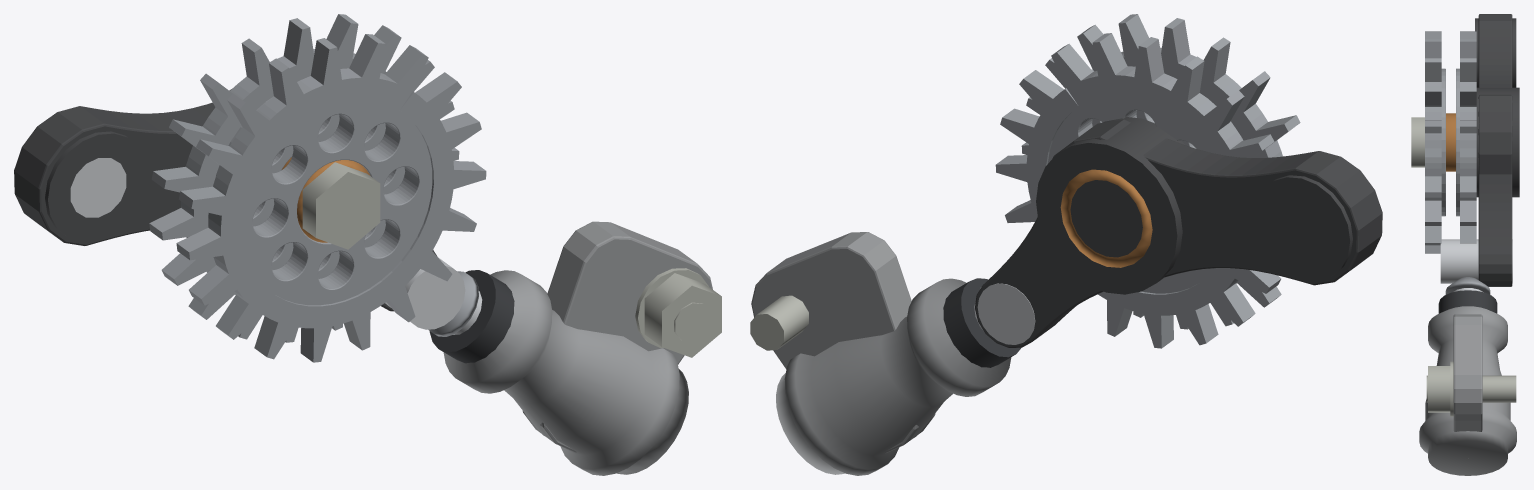
The model's file is chain-tensioner-left.glb.
3 renders of one model, left to right at view 1: azimuth 30°, elevation 25°; view 2: azimuth 150°, elevation 25°; view 3: azimuth 270°, elevation 25°, orthographic. The views are drawn at different scales.
Parts seen in each view (by area): view 1: chain-tensioner-left:steel, chain-tensioner-left:castAlu, chain-tensioner-left:forgedDark, chain-tensioner-left:zincPlate, chain-tensioner-left:polishedSteel, chain-tensioner-left:darkSteel; view 2: chain-tensioner-left:forgedDark, chain-tensioner-left:castAlu, chain-tensioner-left:steel, chain-tensioner-left:darkSteel, chain-tensioner-left:polishedSteel, chain-tensioner-left:bronze, chain-tensioner-left:zincPlate; view 3: chain-tensioner-left:castAlu, chain-tensioner-left:forgedDark, chain-tensioner-left:steel, chain-tensioner-left:zincPlate, chain-tensioner-left:polishedSteel, chain-tensioner-left:darkSteel, chain-tensioner-left:bronze.
Boxes of the visible parts, x1=… form: chain-tensioner-left:steel: x1=149, y1=14, x2=486, y2=362; chain-tensioner-left:castAlu: x1=443, y1=221, x2=712, y2=475; chain-tensioner-left:forgedDark: x1=14, y1=88, x2=437, y2=311; chain-tensioner-left:zincPlate: x1=302, y1=162, x2=721, y2=357; chain-tensioner-left:polishedSteel: x1=70, y1=158, x2=482, y2=334; chain-tensioner-left:darkSteel: x1=429, y1=270, x2=514, y2=363; chain-tensioner-left:forgedDark: x1=975, y1=117, x2=1382, y2=347; chain-tensioner-left:castAlu: x1=751, y1=232, x2=1011, y2=475; chain-tensioner-left:steel: x1=980, y1=14, x2=1300, y2=348; chain-tensioner-left:darkSteel: x1=943, y1=278, x2=1021, y2=367; chain-tensioner-left:polishedSteel: x1=974, y1=283, x2=1035, y2=344; chain-tensioner-left:bronze: x1=1060, y1=169, x2=1152, y2=267; chain-tensioner-left:zincPlate: x1=750, y1=295, x2=808, y2=350; chain-tensioner-left:castAlu: x1=1419, y1=306, x2=1516, y2=475; chain-tensioner-left:forgedDark: x1=1475, y1=14, x2=1519, y2=286; chain-tensioner-left:steel: x1=1425, y1=31, x2=1490, y2=294; chain-tensioner-left:zincPlate: x1=1411, y1=117, x2=1516, y2=416; chain-tensioner-left:polishedSteel: x1=1440, y1=239, x2=1512, y2=292; chain-tensioner-left:darkSteel: x1=1438, y1=290, x2=1497, y2=313; chain-tensioner-left:bronze: x1=1446, y1=113, x2=1455, y2=171.
Size of the model in its own units: 143 by 108 by 31.5.
